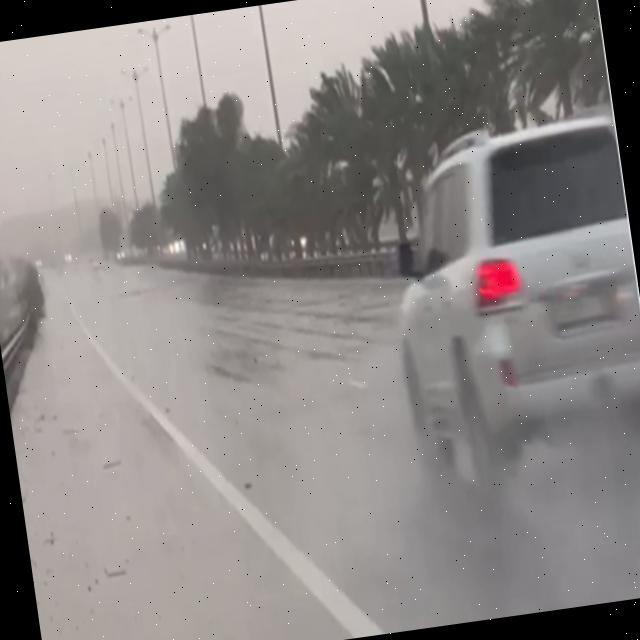car: (373, 98, 640, 515)
